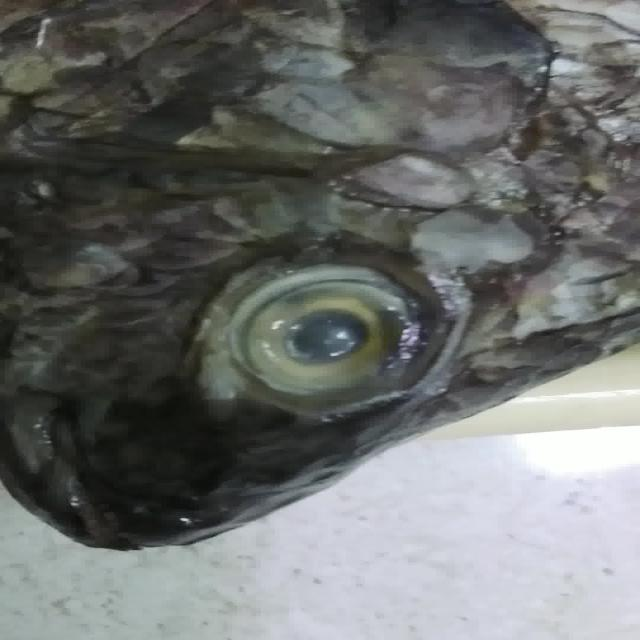Non-Fresh: (184, 249, 464, 425)
